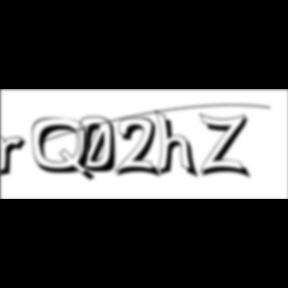0: (80, 115, 124, 174)
2: (115, 117, 165, 181)
Q: (32, 117, 98, 184)
Z: (199, 112, 254, 181)
h: (154, 108, 202, 182)
r: (1, 134, 34, 180)
